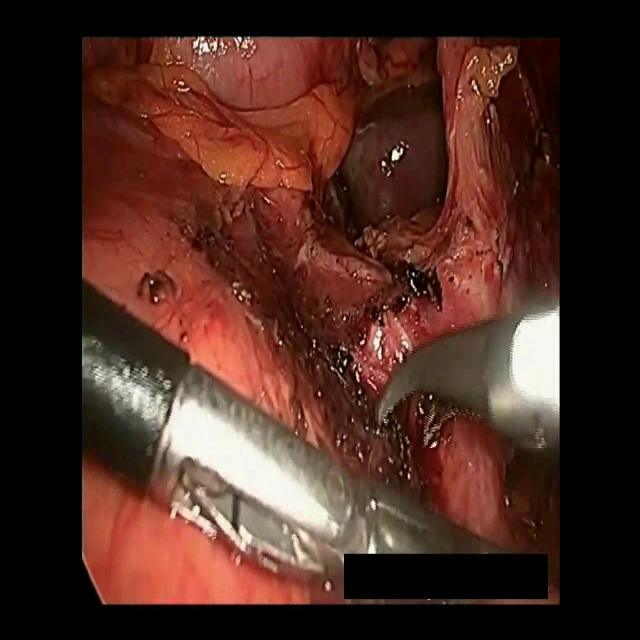surgical-area: (84, 37, 564, 609), (82, 337, 344, 607)
surgical-tool: (83, 276, 528, 607), (375, 294, 560, 455)
